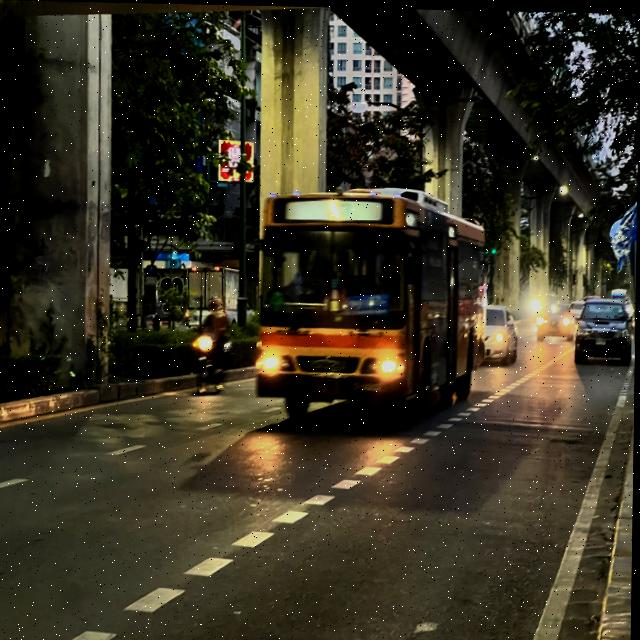BMTA-bus: (255, 185, 487, 431)
Bus-Line-Number: (316, 197, 350, 221)
Destination-Sign-Normal: (344, 292, 390, 314)
